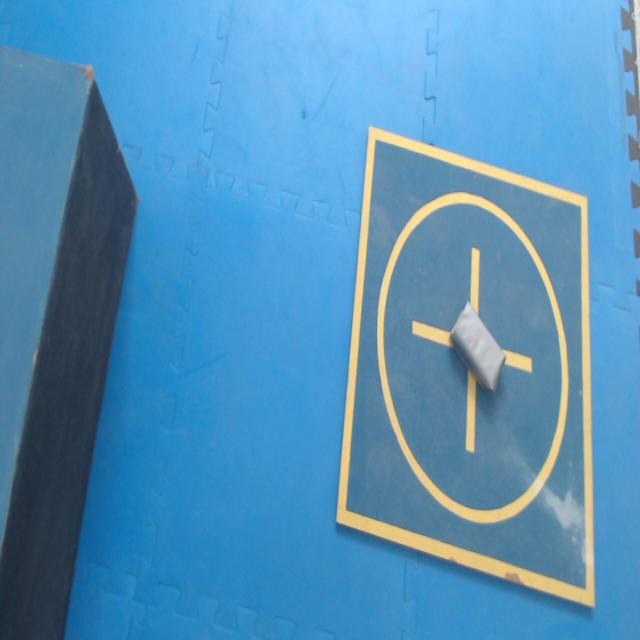lipo: (451, 301, 506, 390)
